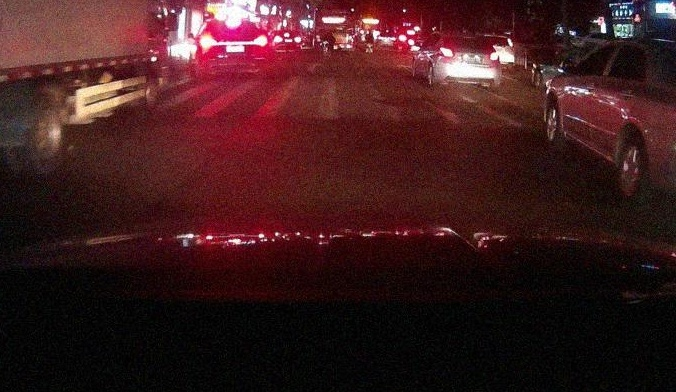L_light: (440, 47, 454, 58), (199, 38, 215, 47)
R_light: (253, 37, 268, 46), (489, 52, 500, 60)
T_light: (226, 20, 240, 27), (465, 36, 476, 40)
night-left: (198, 16, 271, 79)
night-no: (439, 33, 502, 91)
